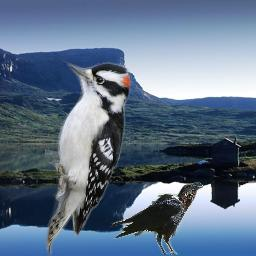Crow: (110, 182, 203, 255)
Woodpecker: (45, 54, 139, 256)
